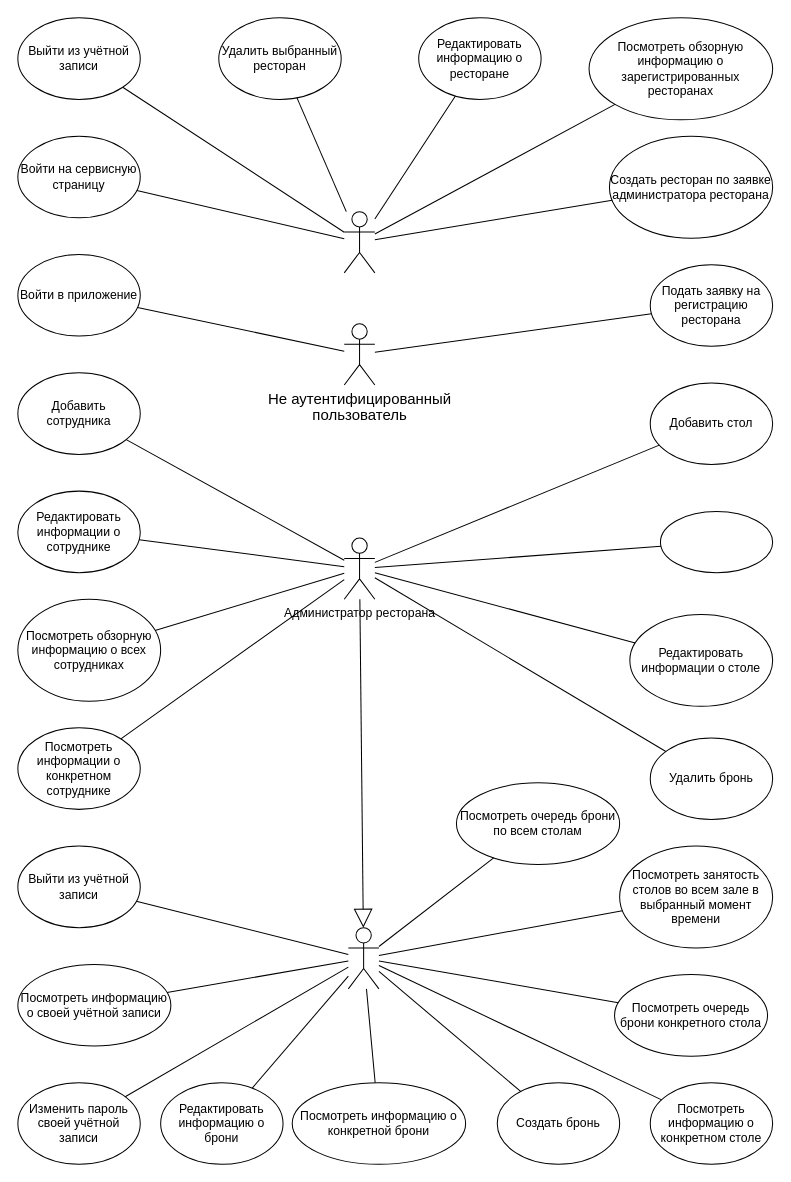
This 791x1182 diagram has some shape labels left out. The centre of each missing label's shape, as x and y in pixels:
"Администратор вендора" belongs at (x=359, y=242).
"Сотрудник ресторана" belongs at (x=363, y=958).
"Удалить стол" belongs at (x=716, y=542).
